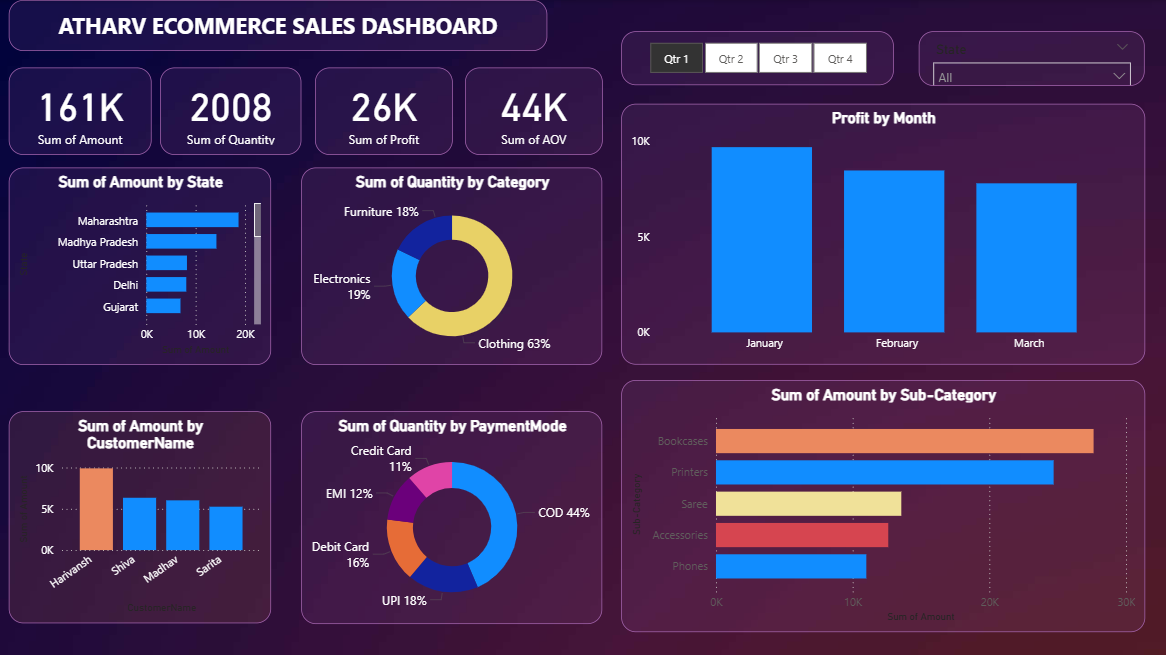

The page's visual inventory and layout, read from the dashboard file:
{"tool":"powerbi","page":{"name":"Page 1","canvas":[1280,720],"ordinal":0},"visuals":[{"type":"textbox","box":[9.6,0,591.4,56.3],"z":0},{"type":"columnChart","title":" Profit by Month","fields":{"Category":["Orders.Order Date.Variation.Date Hierarchy.Month"],"Y":["Details.Profit"]},"box":[682,113.9,575,286.8],"z":1000},{"type":"barChart","fields":{"Category":["Details.Sub-Category"],"Y":["Details.Amount"]},"box":[682,417.2,575,277.2],"z":2000},{"type":"donutChart","fields":{"Y":["Details.Quantity"],"Category":["Details.PaymentMode"]},"box":[330.7,451.5,330.7,233.3],"z":3000},{"type":"donutChart","fields":{"Category":["Details.Category"],"Y":["Details.Quantity"]},"box":[330.7,183.9,330.7,216.8],"z":4000},{"type":"card","fields":{"Values":["Details.Amount"]},"box":[9.6,74.1,156.4,96.1],"z":5000},{"type":"card","fields":{"Values":["Details.Quantity"]},"box":[175.6,74.1,155.1,96.1],"z":6000},{"type":"card","fields":{"Values":["Details.Profit"]},"box":[345.8,74.1,150.9,96.1],"z":7000},{"type":"card","fields":{"Values":["Details.AOV"]},"box":[510.5,74.1,150.9,96.1],"z":8000},{"type":"barChart","title":"Sum of Amount by State","fields":{"Category":["Orders.State"],"Y":["Details.Amount"]},"box":[9.6,183.9,288.2,216.8],"z":9000},{"type":"columnChart","fields":{"Category":["Orders.CustomerName"],"Y":["Details.Amount"]},"box":[10,451,288,233],"z":10000},{"type":"slicer","fields":{"Values":["Orders.Order Date.Variation.Date Hierarchy.Quarter"]},"box":[682,34.3,299.1,59],"z":11000},{"type":"slicer","fields":{"Values":["Orders.State"]},"box":[1008.6,34.3,248.4,60.4],"z":12000}]}

Visuals, with their boxes in screenshot pixels (x1, y1, x2, y2), scaled from the page's 1280x720 canvas onto the 1166x655 screenshot:
textbox: [x1=9, y1=0, x2=547, y2=51]
" Profit by Month" columnChart: [x1=621, y1=104, x2=1145, y2=365]
barChart - Details.Sub-Category x Details.Amount: [x1=621, y1=380, x2=1145, y2=632]
donutChart - Details.Quantity x Details.PaymentMode: [x1=301, y1=411, x2=602, y2=623]
donutChart - Details.Category x Details.Quantity: [x1=301, y1=167, x2=602, y2=365]
card - Details.Amount: [x1=9, y1=67, x2=151, y2=155]
card - Details.Quantity: [x1=160, y1=67, x2=301, y2=155]
card - Details.Profit: [x1=315, y1=67, x2=452, y2=155]
card - Details.AOV: [x1=465, y1=67, x2=602, y2=155]
"Sum of Amount by State" barChart: [x1=9, y1=167, x2=271, y2=365]
columnChart - Orders.CustomerName x Details.Amount: [x1=9, y1=410, x2=271, y2=622]
slicer - Orders.Order Date.Variation.Date Hierarchy.Quarter: [x1=621, y1=31, x2=894, y2=85]
slicer - Orders.State: [x1=919, y1=31, x2=1145, y2=86]
